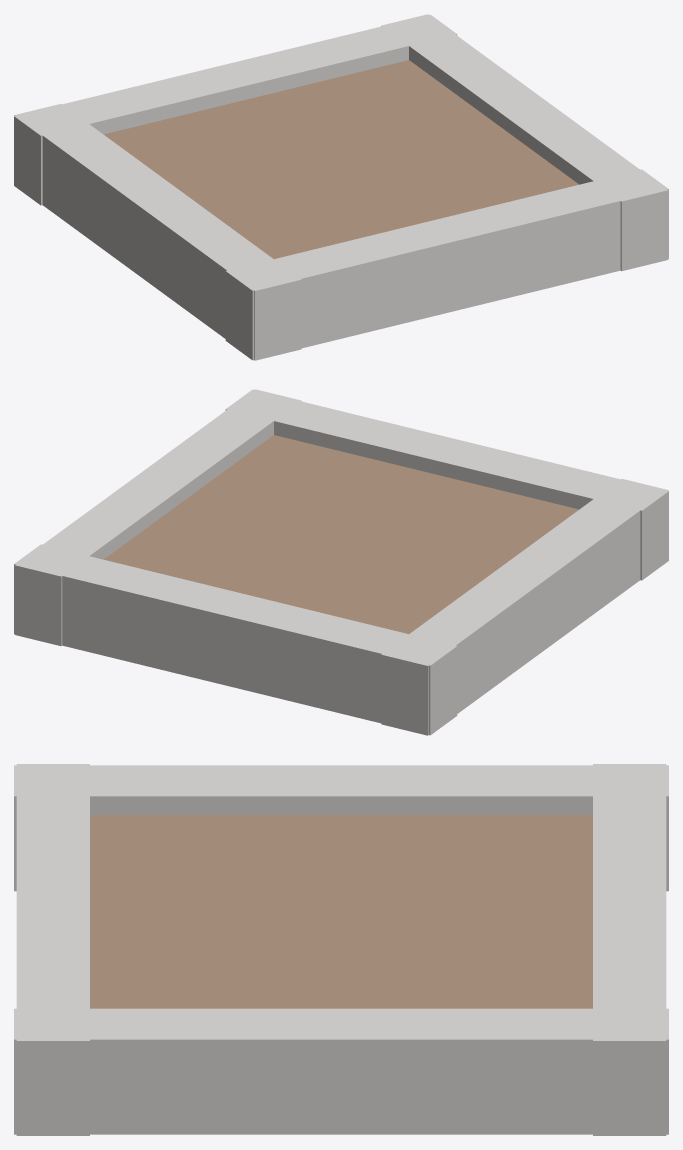
The model's file is plot_small.glb.
3 views of the same model, one above another, from view 1: azimuth 30°, elevation 25°; view 2: azimuth 150°, elevation 25°; view 3: azimuth 270°, elevation 25° (orthographic). The views are drawn at different scales.
Parts seen in each view (by area): view 1: PlotSmall; view 2: PlotSmall; view 3: PlotSmall.
Part boxes in pixels (x1,y1,x2,y2): PlotSmall: (14,14,668,360); PlotSmall: (14,389,668,735); PlotSmall: (14,764,668,1135).
Bounding box in the file's own units: 1.25 × 0.2 × 1.25.
